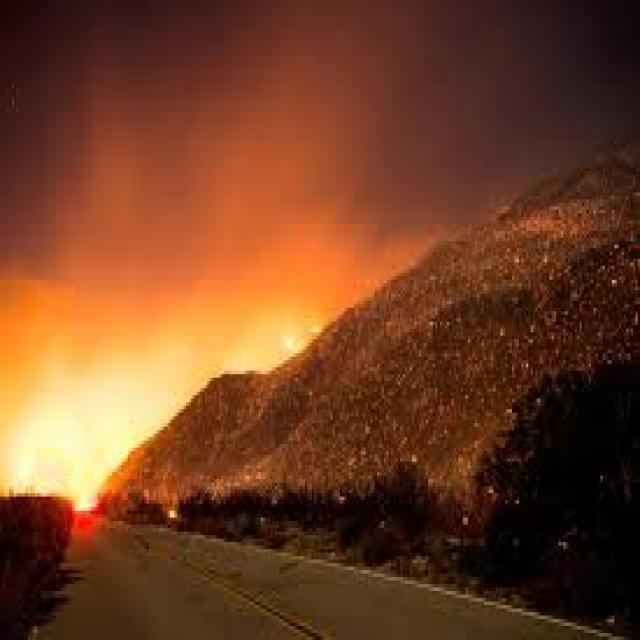Fire: (0, 402, 133, 525)
Smoke: (0, 78, 340, 406)
